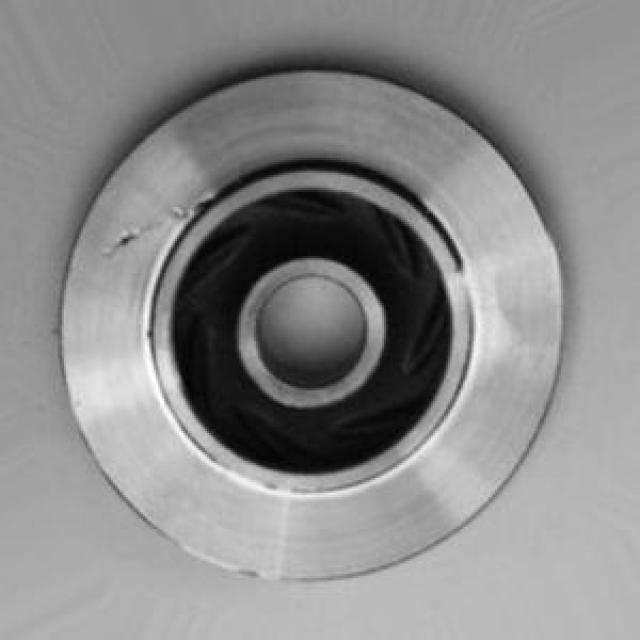Defect: (99, 223, 155, 259)
